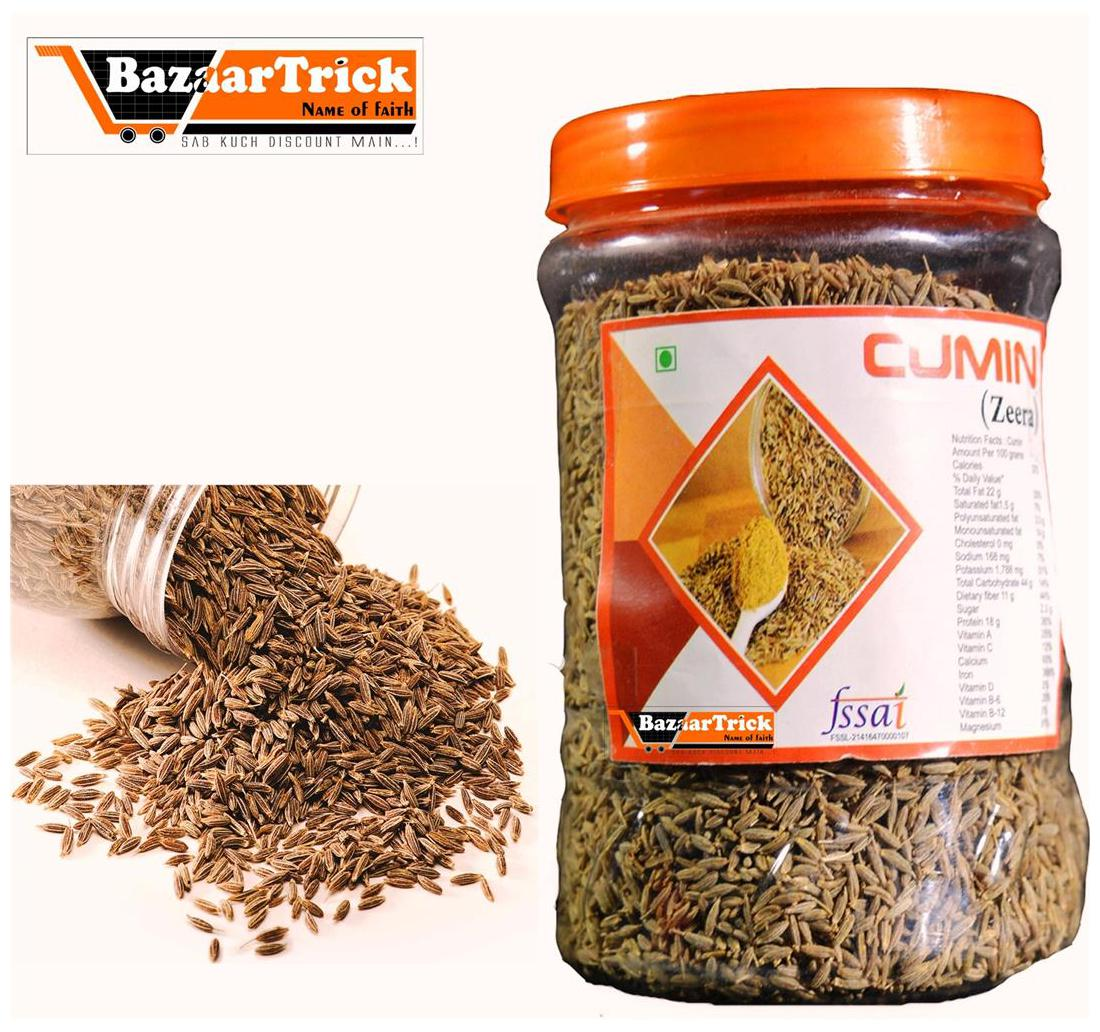fssai: (821, 686, 910, 731)
